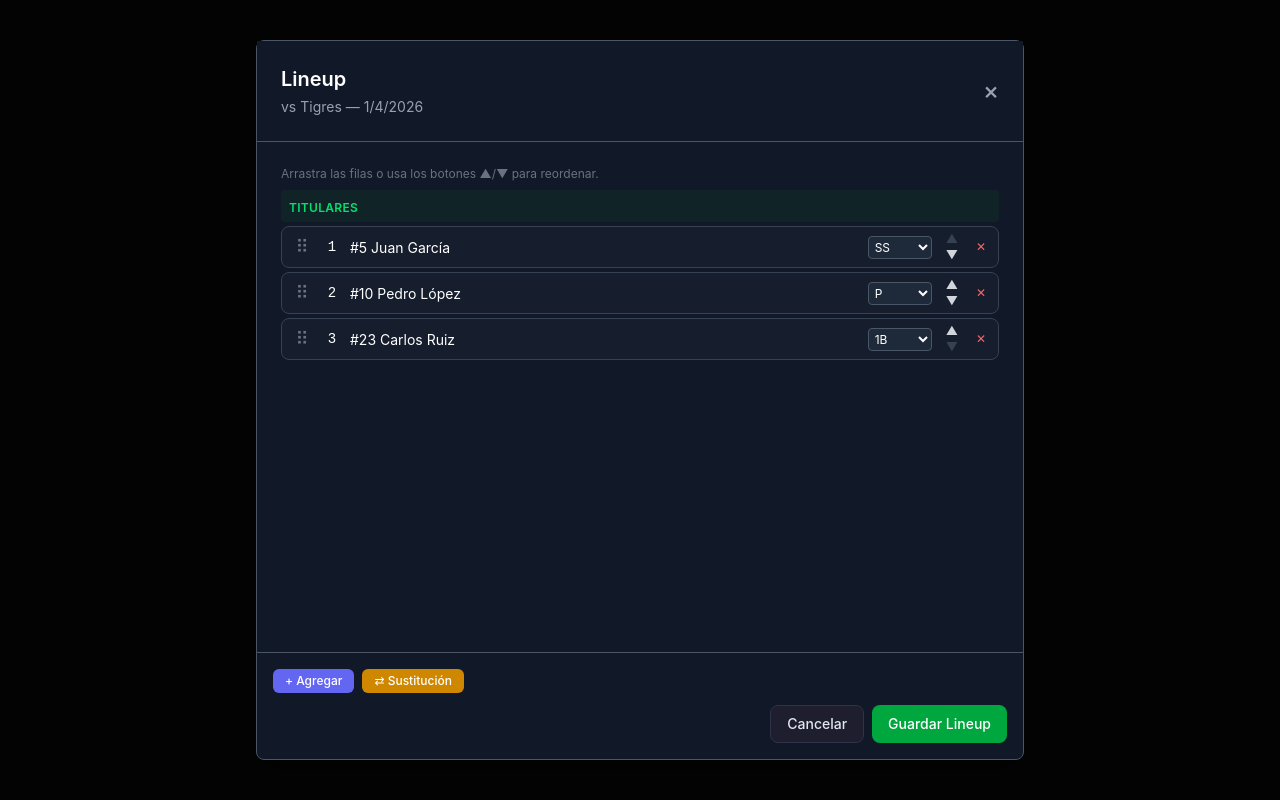
Flujo: apertura de SubstitutionModal desde LineupModal › LineupModal + SubstitutionModal funcionan juntos sin errores
This screenshot has width=1280, height=800.
Expected: the text "#5 Juan García" is shown, [350,239,450,256]
Click the button "⇄ Sustitución": (413,681) [362,669,464,693]
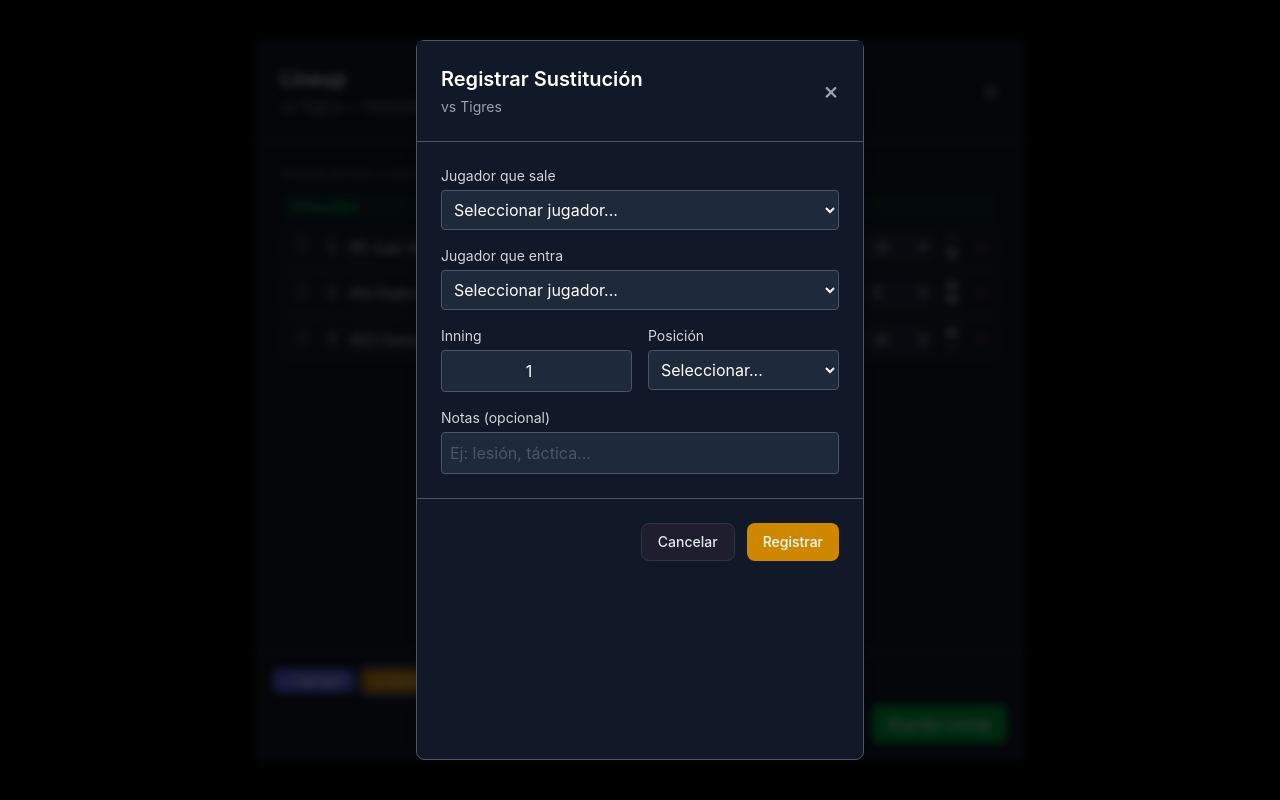
Now the heading "Registrar Sustitución" is shown, box [441,65,643,93]
